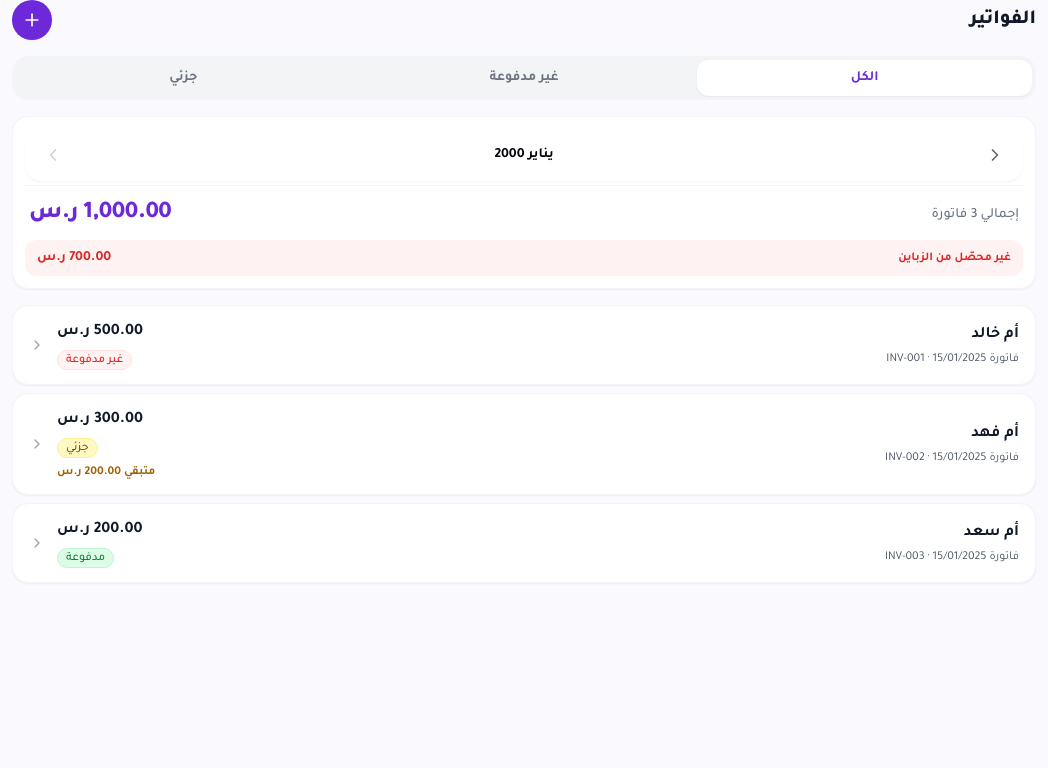
Scenario: صفحة الفواتير (Invoices) › تبويبات الفلتر › تبويب 'غير مدفوعة' يخفي المدفوعة والجزئية
This screenshot has width=1048, height=768.
expect the text "أم خالد" is shown: met, box [972, 327, 1019, 343]
Click the button "غير مدفوعة": coordinates (524, 78) [357, 60, 691, 96]
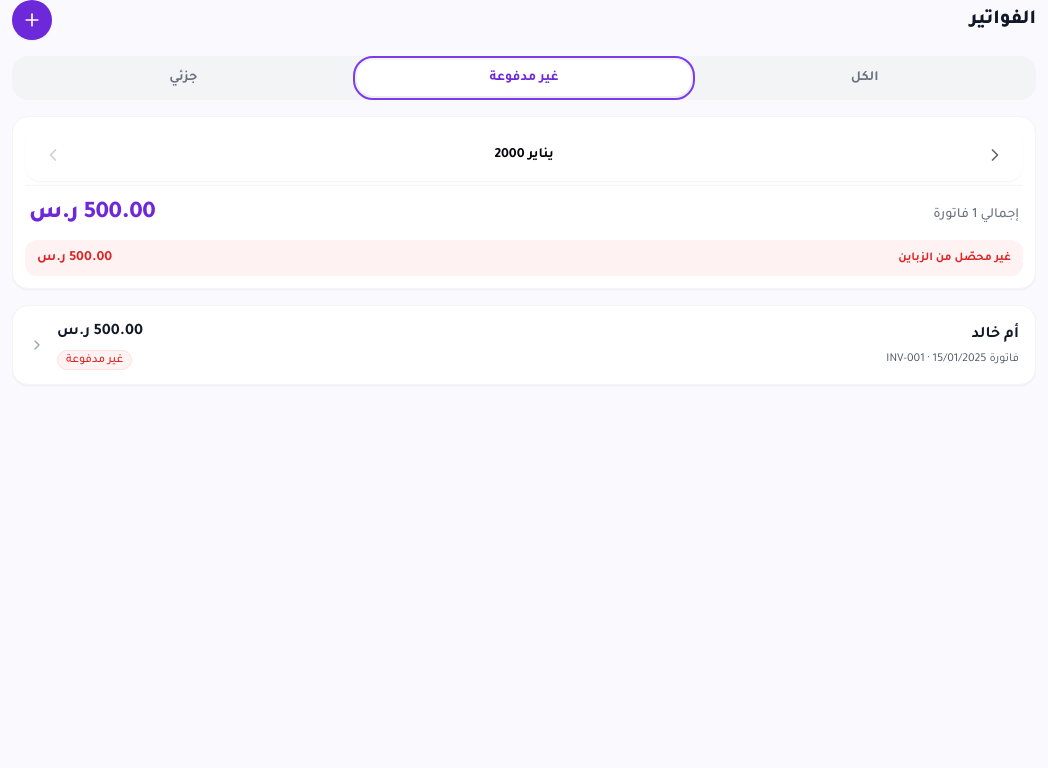
expect the text "أم خالد" is shown: met, box [972, 327, 1019, 343]
expect the link "أم فهد" is gone: met
expect the link "أم سعد" is gone: met
